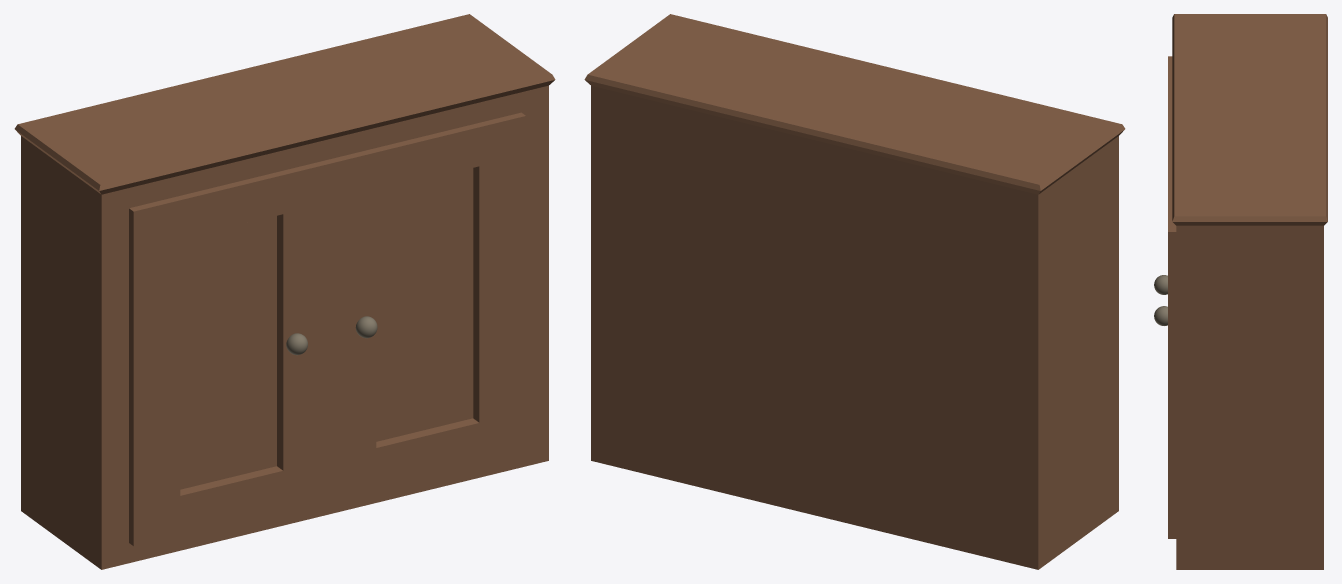
Rendered from cupboard.fbx.
The picture shows the model from 3 angles, left to right: view 1: azimuth 30°, elevation 25°; view 2: azimuth 150°, elevation 25°; view 3: azimuth 270°, elevation 25°; orthographic projection. The views are drawn at different scales.
Visible parts, largest first — view 1: Cube; view 2: Cube; view 3: Cube.
Part boxes in pixels (left/top/right/bottom): Cube: left=14, top=14, right=555, bottom=569; Cube: left=584, top=14, right=1125, bottom=569; Cube: left=1154, top=14, right=1327, bottom=569.
Bounding box in the file's own units: 255 × 206 × 91.54.
